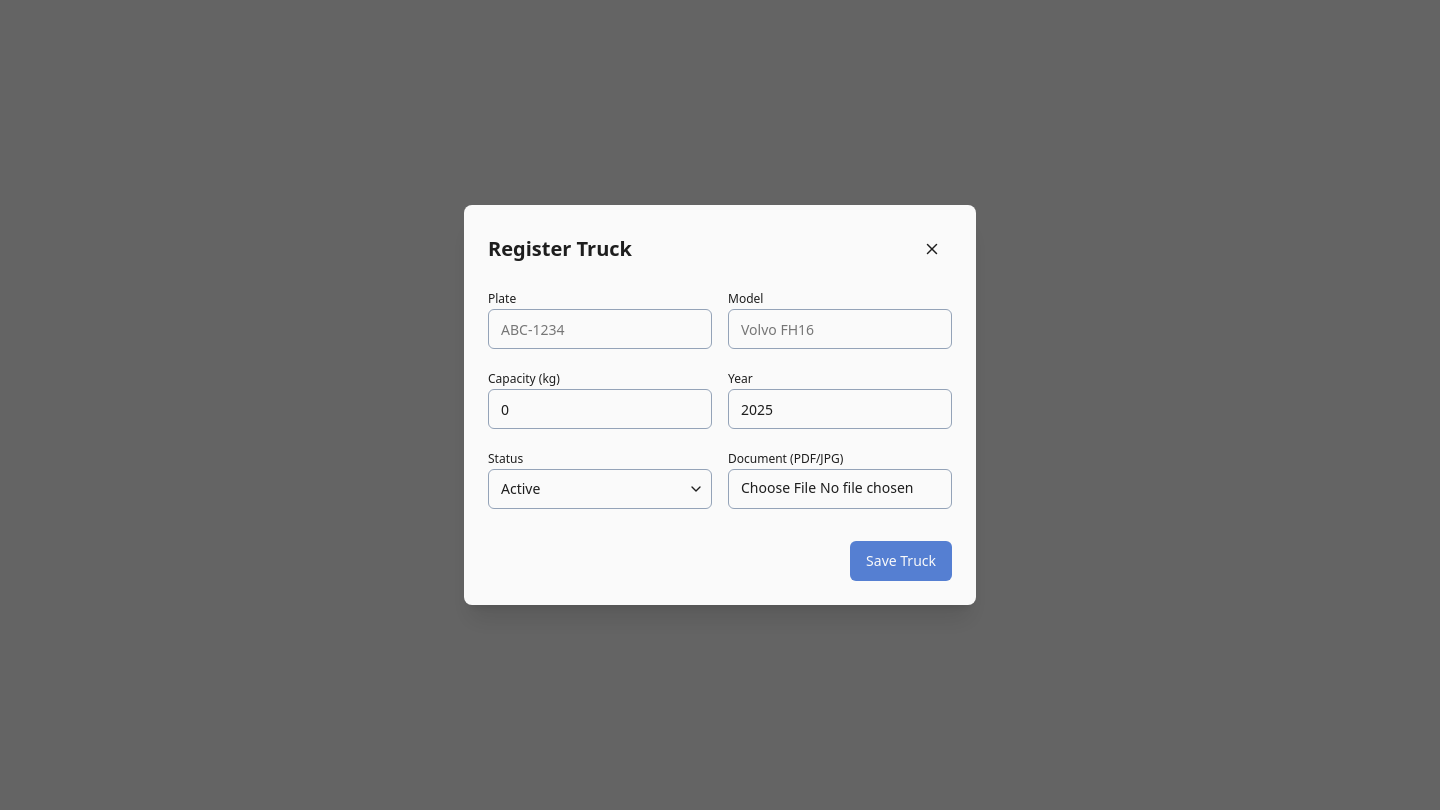
TruckFormDialog › should show validation errors on submit with empty data
Click the button "Save Truck". click: (901, 561)
box: [850,541,952,581]
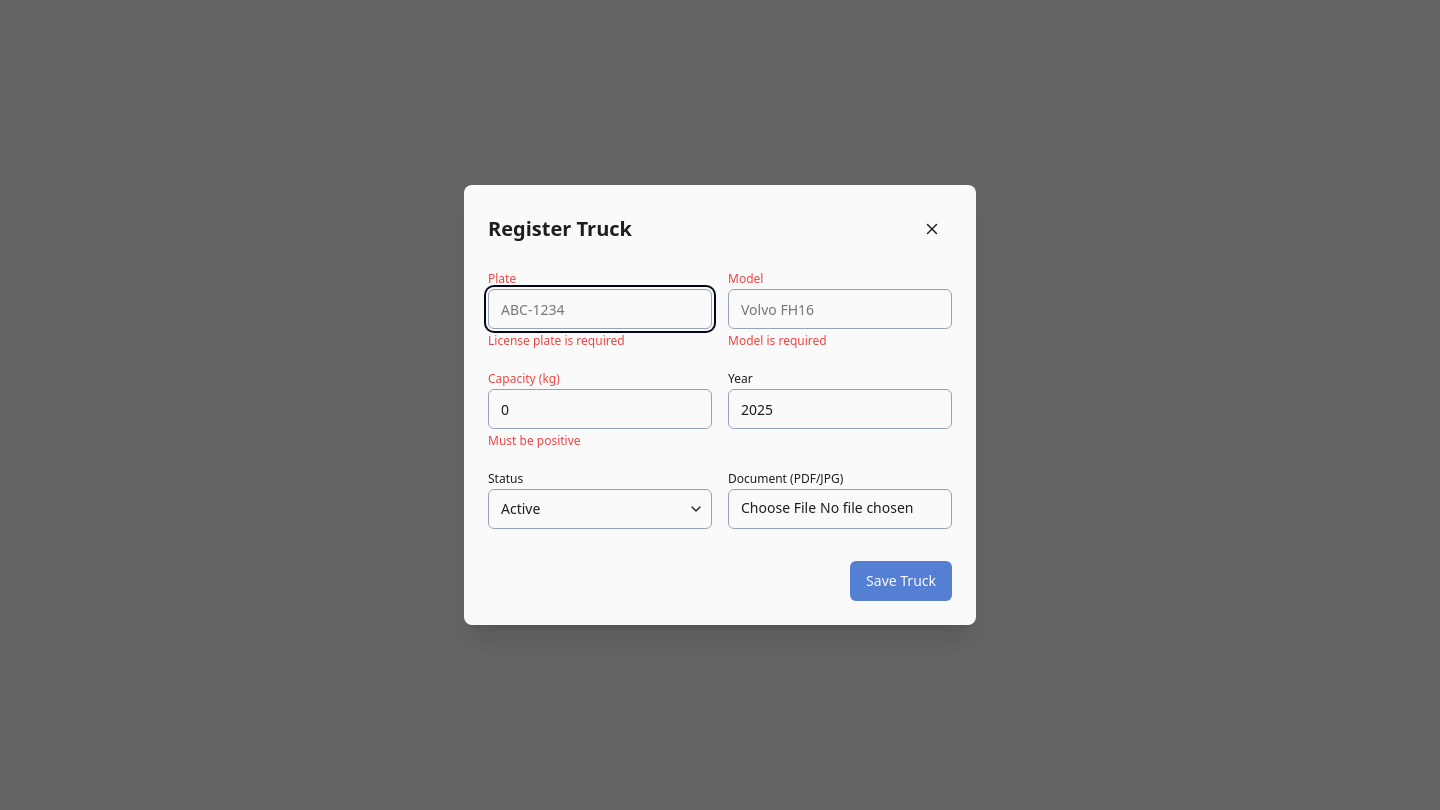
Expected: the text "License plate is required" is shown, [488,332,625,349]
Expected: the text "Model is required" is shown, [728,332,827,349]
Expected: the text "Must be positive" is shown, [488,432,580,449]
